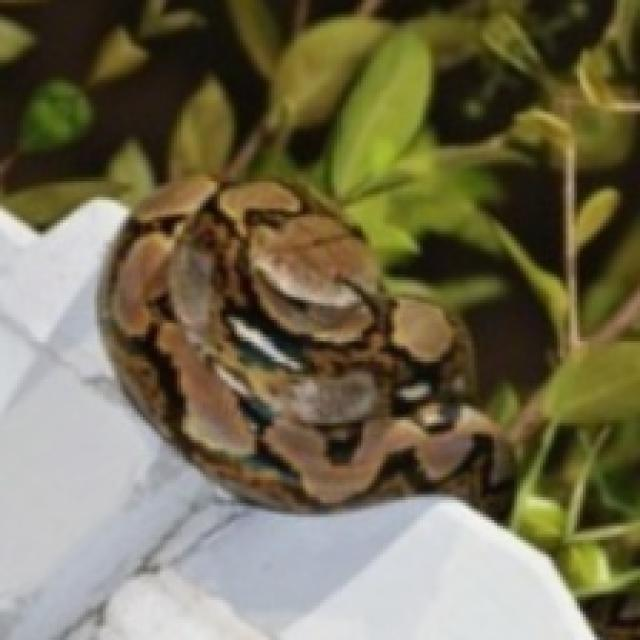reticulated python: (100, 177, 511, 509)
